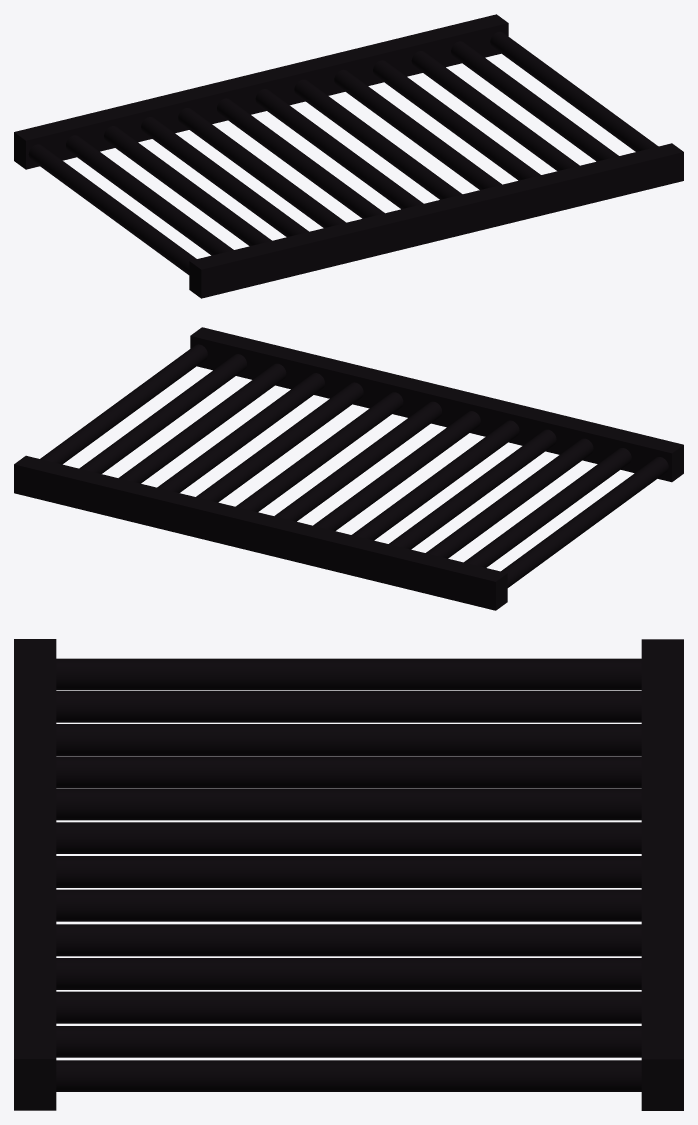
The model's file is reja_lab.obj.
3 renders of one model, top to bottom at view 1: azimuth 30°, elevation 25°; view 2: azimuth 150°, elevation 25°; view 3: azimuth 270°, elevation 25°, orthographic. The views are drawn at different scales.
Parts seen in each view (by area): view 1: Object.3, Object.2, Object.15, Object.8, Object.9, Object.6, Object.13, Object.14, Object.4, Object.7, Object.11, Object.10 (+3 smaller); view 2: Object.2, Object.3, Object.15, Object.5, Object.6, Object.8, Object.9, Object.11, Object.12, Object.4, Object.13, Object.1 (+3 smaller); view 3: Object.2, Object.3, Object.5, Object.6, Object.9, Object.11, Object.12, Object.15, Object.1, Object.4, Object.7, Object.8 (+3 smaller).
Part boxes in pixels (box(x1,y1,x2,y2)): Object.3: box(189, 143, 683, 298); Object.2: box(14, 14, 508, 169); Object.15: box(28, 144, 196, 274); Object.8: box(490, 31, 658, 151); Object.9: box(294, 79, 462, 199); Object.6: box(334, 69, 501, 189); Object.13: box(104, 126, 271, 245); Object.14: box(66, 135, 233, 255); Object.4: box(373, 60, 540, 180); Object.7: box(451, 41, 618, 161); Object.11: box(178, 108, 345, 227); Object.10: box(217, 98, 384, 218); Object.2: box(14, 455, 507, 610); Object.3: box(190, 327, 683, 482); Object.15: box(501, 457, 668, 587); Object.5: box(118, 363, 286, 483); Object.6: box(196, 382, 363, 502); Object.8: box(40, 344, 207, 464); Object.9: box(235, 392, 403, 511); Object.11: box(352, 420, 519, 540); Object.12: box(389, 429, 556, 549); Object.4: box(157, 373, 324, 492); Object.13: box(426, 438, 593, 558); Object.1: box(274, 401, 441, 521); Object.2: box(641, 639, 683, 1110); Object.3: box(14, 639, 56, 1110); Object.5: box(56, 991, 641, 1023); Object.6: box(56, 924, 641, 956); Object.9: box(56, 889, 641, 921); Object.11: box(56, 788, 641, 820); Object.12: box(56, 756, 641, 788); Object.15: box(56, 658, 641, 690); Object.1: box(56, 856, 641, 887); Object.4: box(56, 958, 641, 989); Object.7: box(56, 1026, 641, 1057); Object.8: box(56, 1060, 641, 1091).
Size of the model in its own units: 415 by 23.76 by 280.
Materials: 1 (1 with a texture image).
